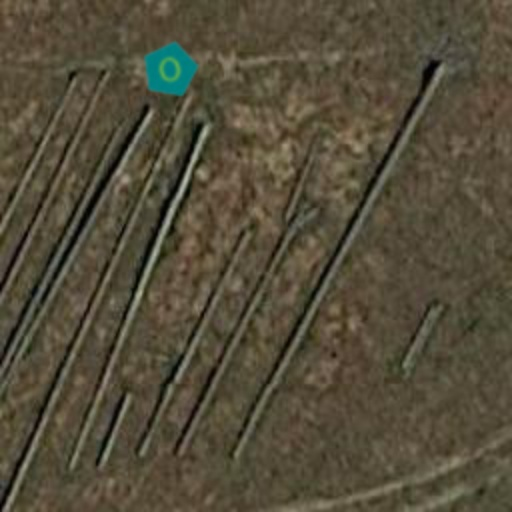pentagon: (136, 36, 204, 104)
